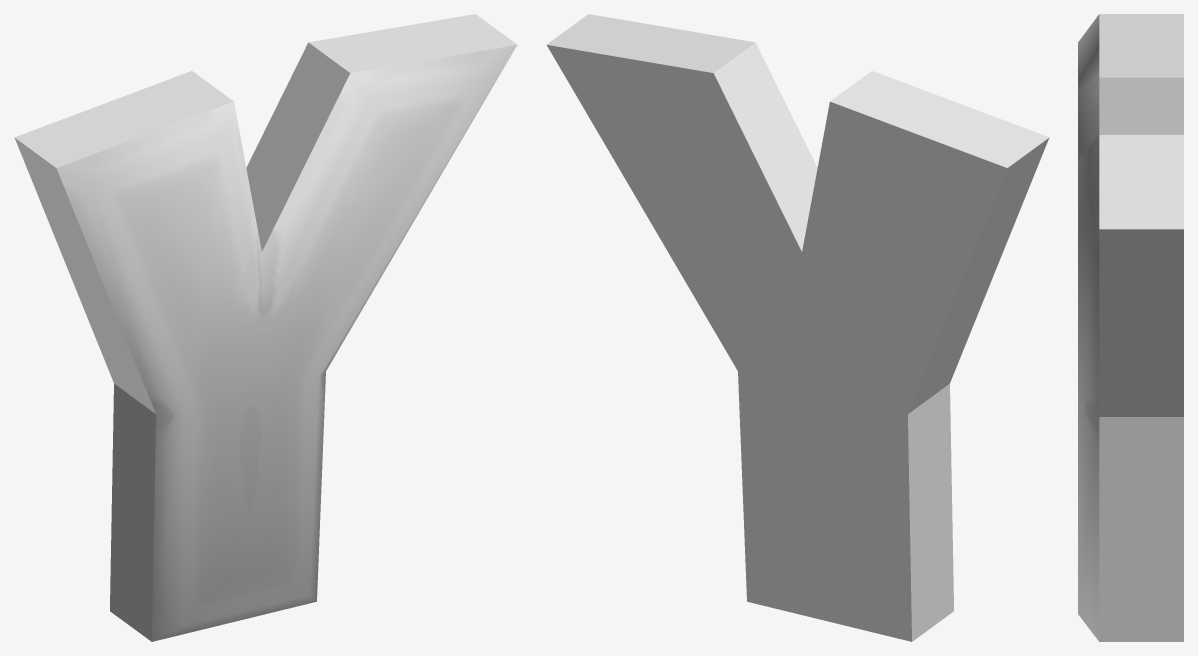
File: LettersStylized01_Y.FBX
3 views of the same model, side by side, from view 1: azimuth 30°, elevation 25°; view 2: azimuth 150°, elevation 25°; view 3: azimuth 270°, elevation 25° (orthographic).
Visible parts, largest first — view 1: LettersStylized01_Y; view 2: LettersStylized01_Y; view 3: LettersStylized01_Y.
Boxes of the visible parts, x1,y1,x2,y2 form: LettersStylized01_Y: (14, 14, 517, 641); LettersStylized01_Y: (546, 14, 1049, 641); LettersStylized01_Y: (1078, 14, 1183, 641).
Size of what is drawn, in the model's own units: 0.4305 by 0.4643 by 0.085.
